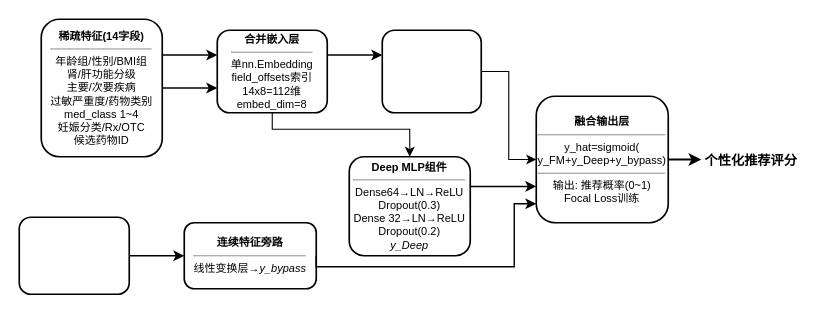
Image size: 820x315. Some labels were removed from this diagram. The shapes that lost their labels are listed below. From the top down, each one's centre as x and y in pixels, then its label:
At (431,71): "FM组件 一阶线性权重+二阶内积交互 (特征组合建模) y_FM".
At (74,255): "连续特征(4字段) age_raw/bmi_raw gfr_raw/ liver_score_raw".
